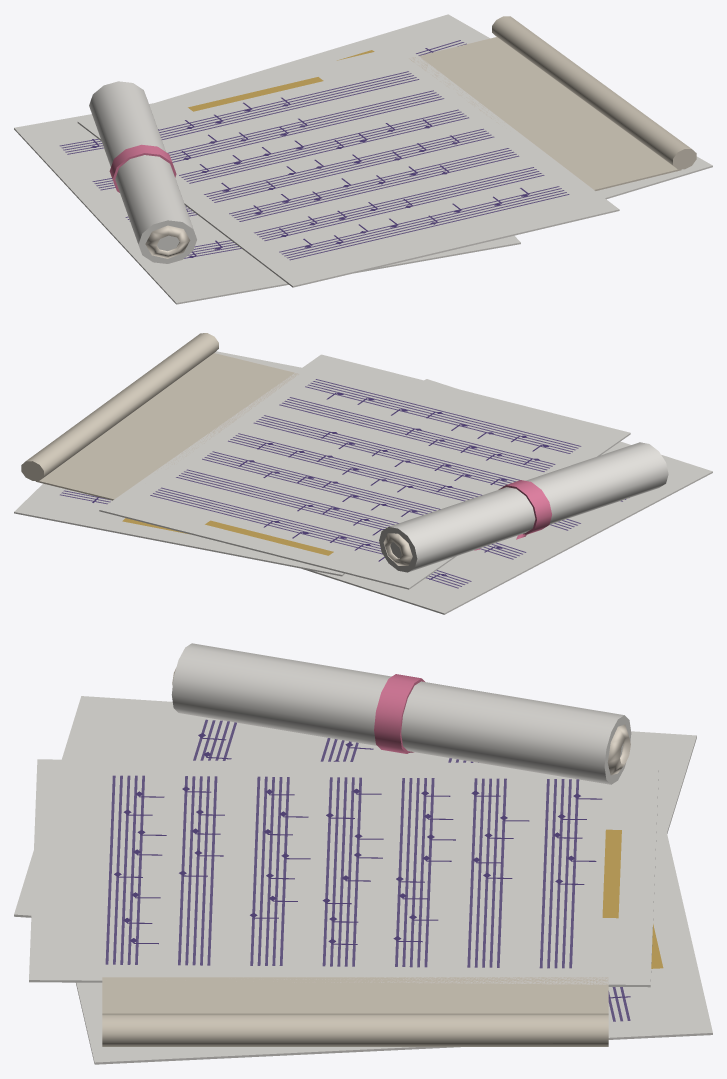
Rendered from sheet_music.glb.
The picture shows the model from 3 angles, top to bottom: view 1: azimuth 30°, elevation 25°; view 2: azimuth 150°, elevation 25°; view 3: azimuth 270°, elevation 25°; orthographic projection. The views are drawn at different scales.
Parts seen in each view (by area): view 1: sheet_music; view 2: sheet_music; view 3: sheet_music.
Boxes of the visible parts, <box> form: sheet_music: <box>14,14,712,304</box>; sheet_music: <box>14,333,712,614</box>; sheet_music: <box>14,643,712,1064</box>.
Size of what is drawn, in the model's own units: 0.35 by 0.04 by 0.28.
